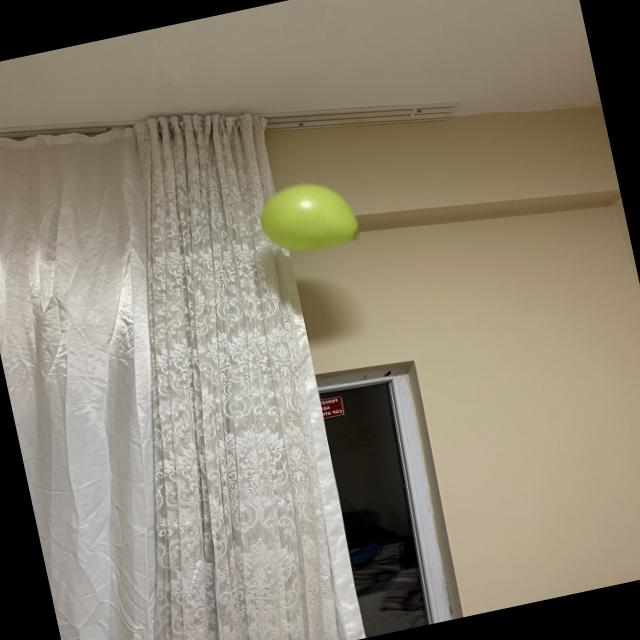balloon: (260, 183, 358, 251)
